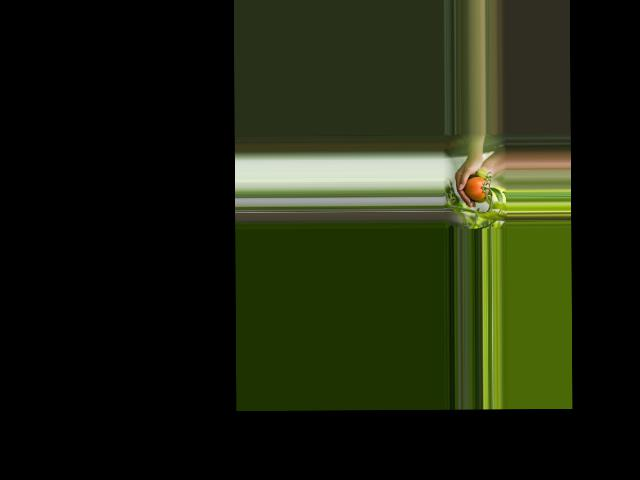tomato: (464, 176, 488, 199)
